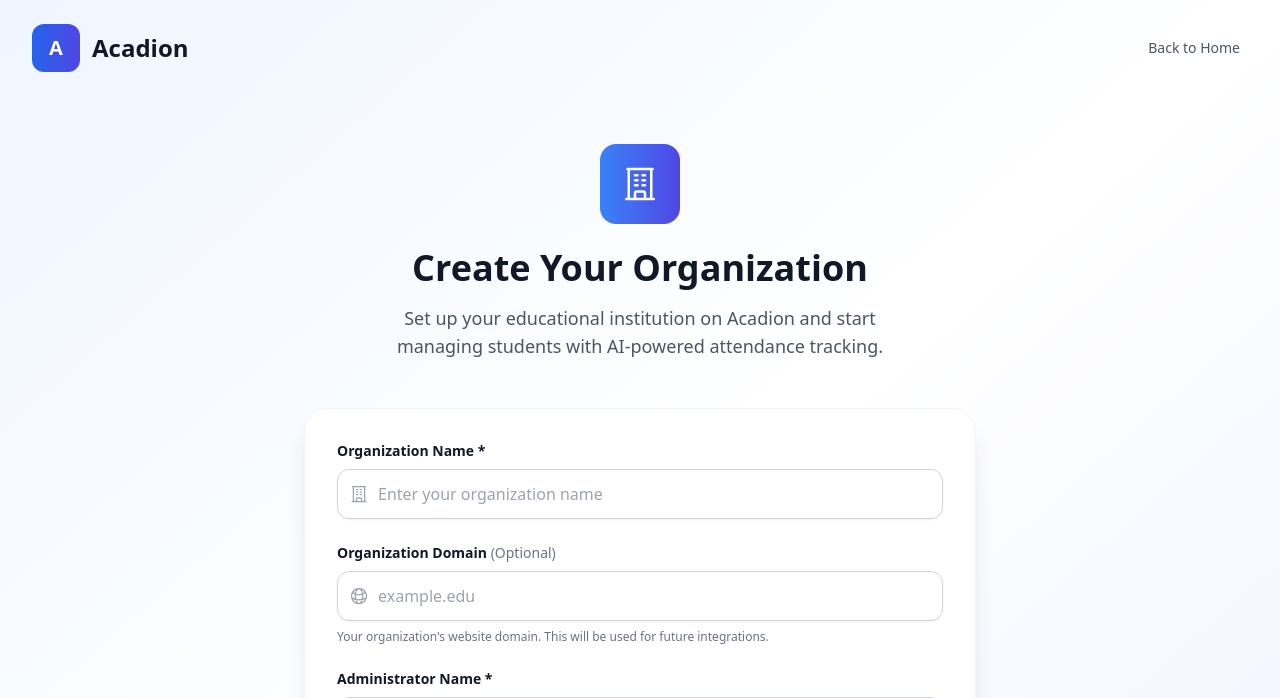
Test: OrganizationOnboarding - Enhanced Validation & Error Handling › Domain Availability Checking › should check domain availability when provided
This screenshot has width=1280, height=698.
# Type a valid domain
Type "test.edu" into the field labelled "Organization Domain (Optional)" at (640, 596), box [337,571,943,621]
Wait 1000 ms
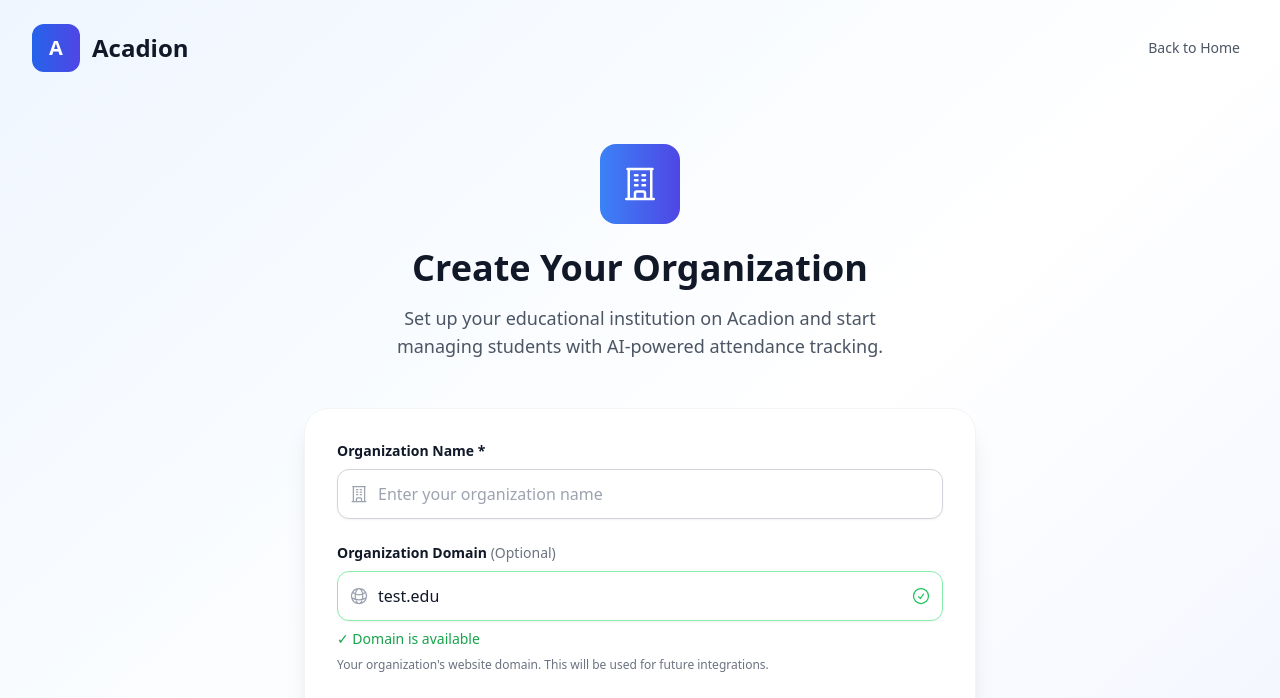
Now the text "✓ Domain is available" is shown, box [337,629,480,649]
